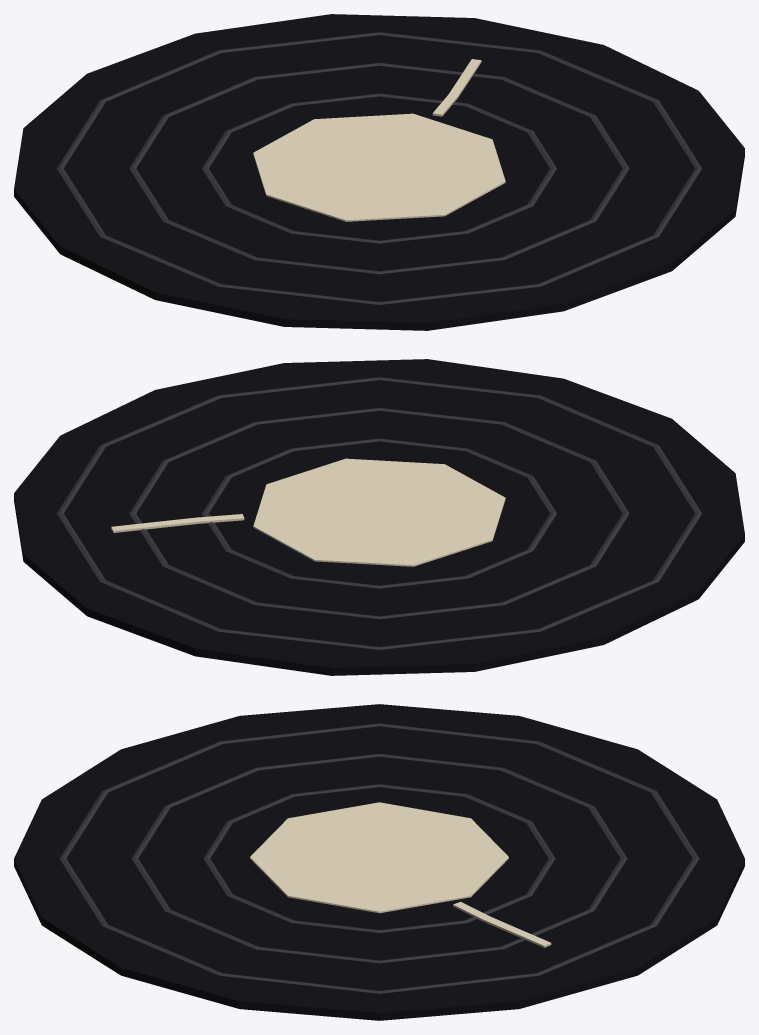
File: Prop_YTM_Record_Scratched_LOD1.glb
The picture shows the model from 3 angles, top to bottom: view 1: azimuth 30°, elevation 25°; view 2: azimuth 150°, elevation 25°; view 3: azimuth 270°, elevation 25°; orthographic projection.
Visible parts, largest first — view 1: Prop_YTM_Record_Scratched; view 2: Prop_YTM_Record_Scratched; view 3: Prop_YTM_Record_Scratched.
Boxes of the visible parts, x1=… form: Prop_YTM_Record_Scratched: x1=14, y1=14, x2=744, y2=330; Prop_YTM_Record_Scratched: x1=14, y1=359, x2=744, y2=675; Prop_YTM_Record_Scratched: x1=14, y1=704, x2=744, y2=1020.
Size of the model in its own units: 0.254 by 0.0039 by 0.254.
